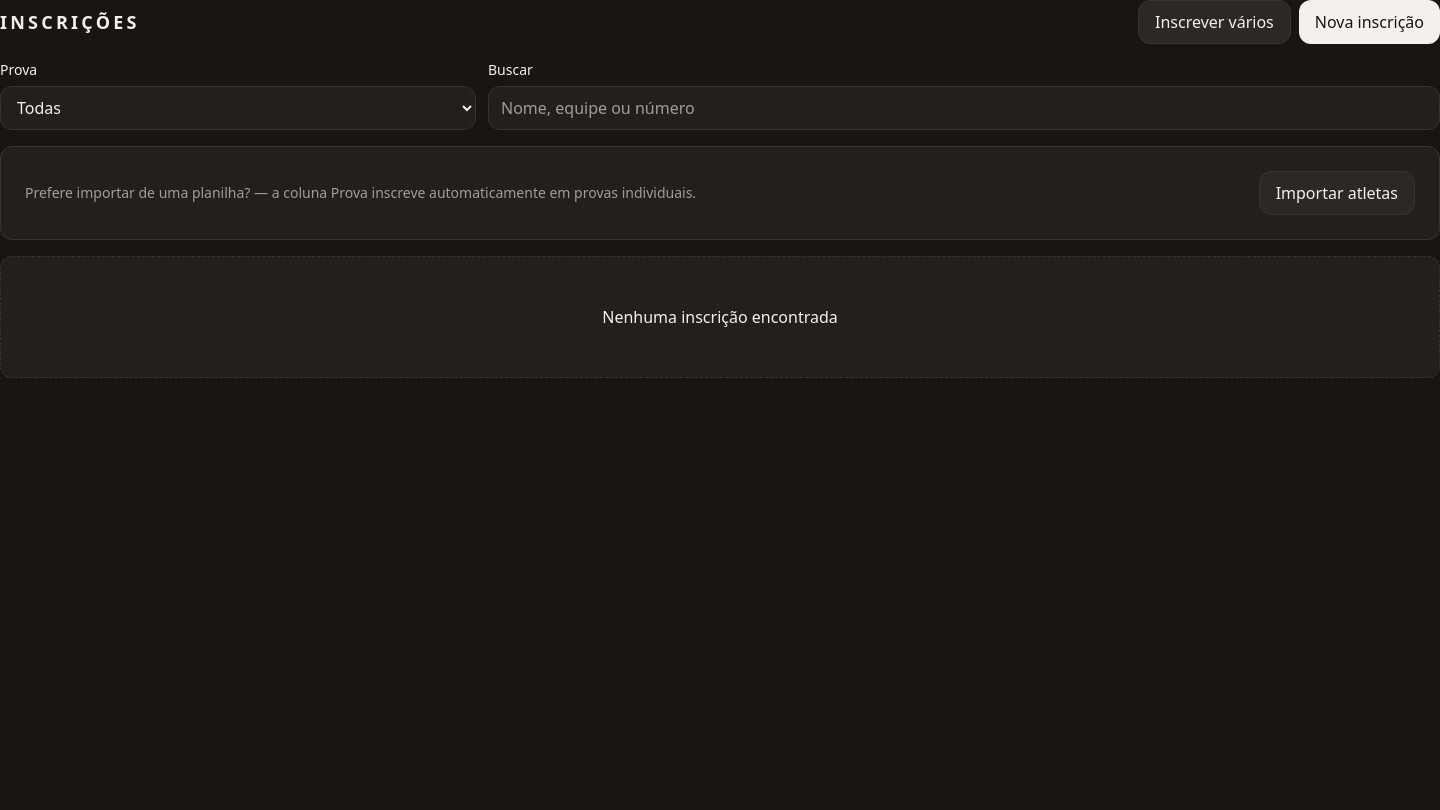
creating a team entry › surfaces the server error in a banner instead of closing the modal
The image size is (1440, 810).
Step 1. Click the button with test id "new-entry" → (1369, 22), box [1299, 0, 1439, 44]
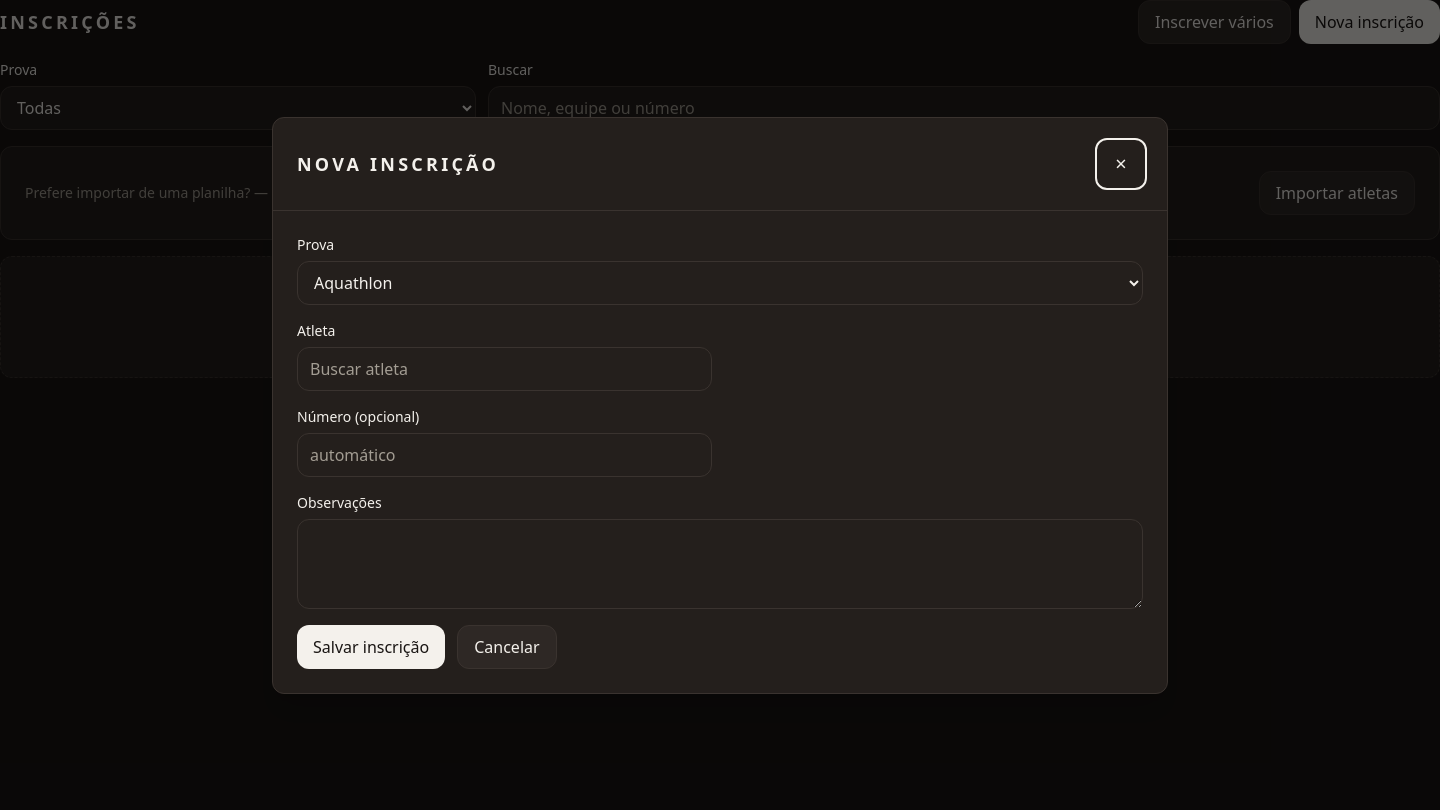
Step 2. Type "Ana" into the dropdown with test id "entry-member-0" → (504, 368), box [297, 346, 712, 390]
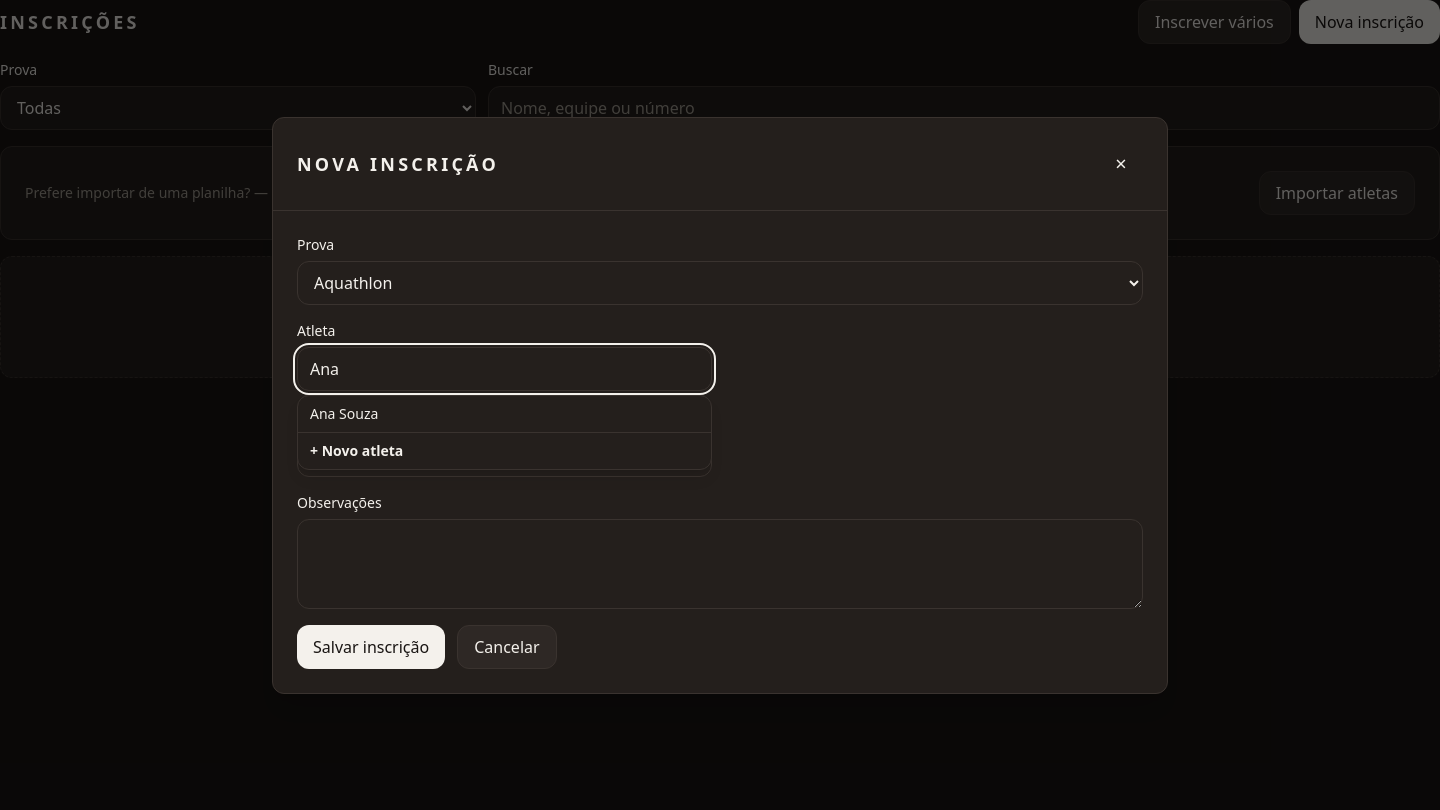
Step 3. Click the option with test id "entry-member-0-option-a1" → (344, 413), box [298, 396, 711, 432]
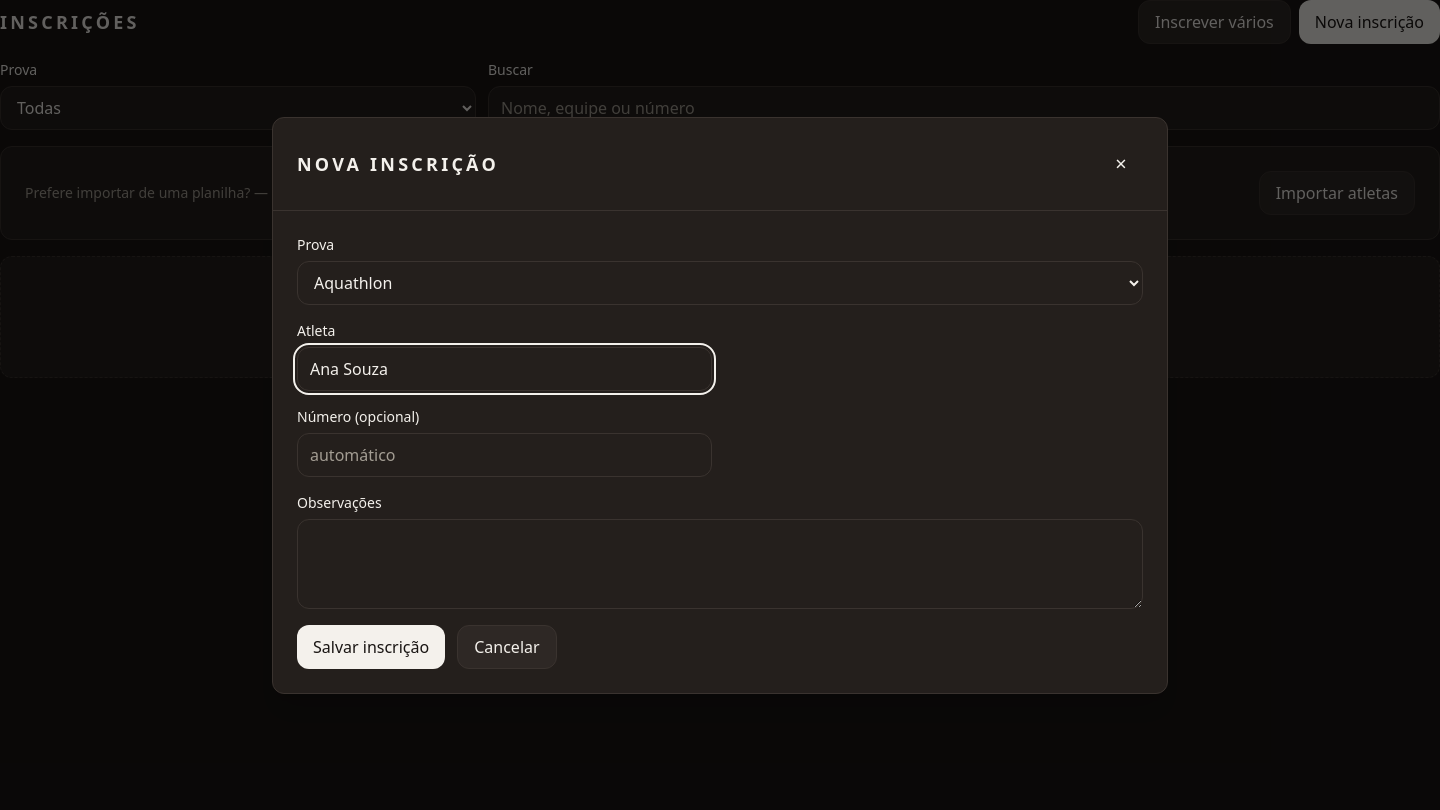
Step 4. Click the button with test id "entry-save" → (371, 646), box [297, 624, 445, 668]
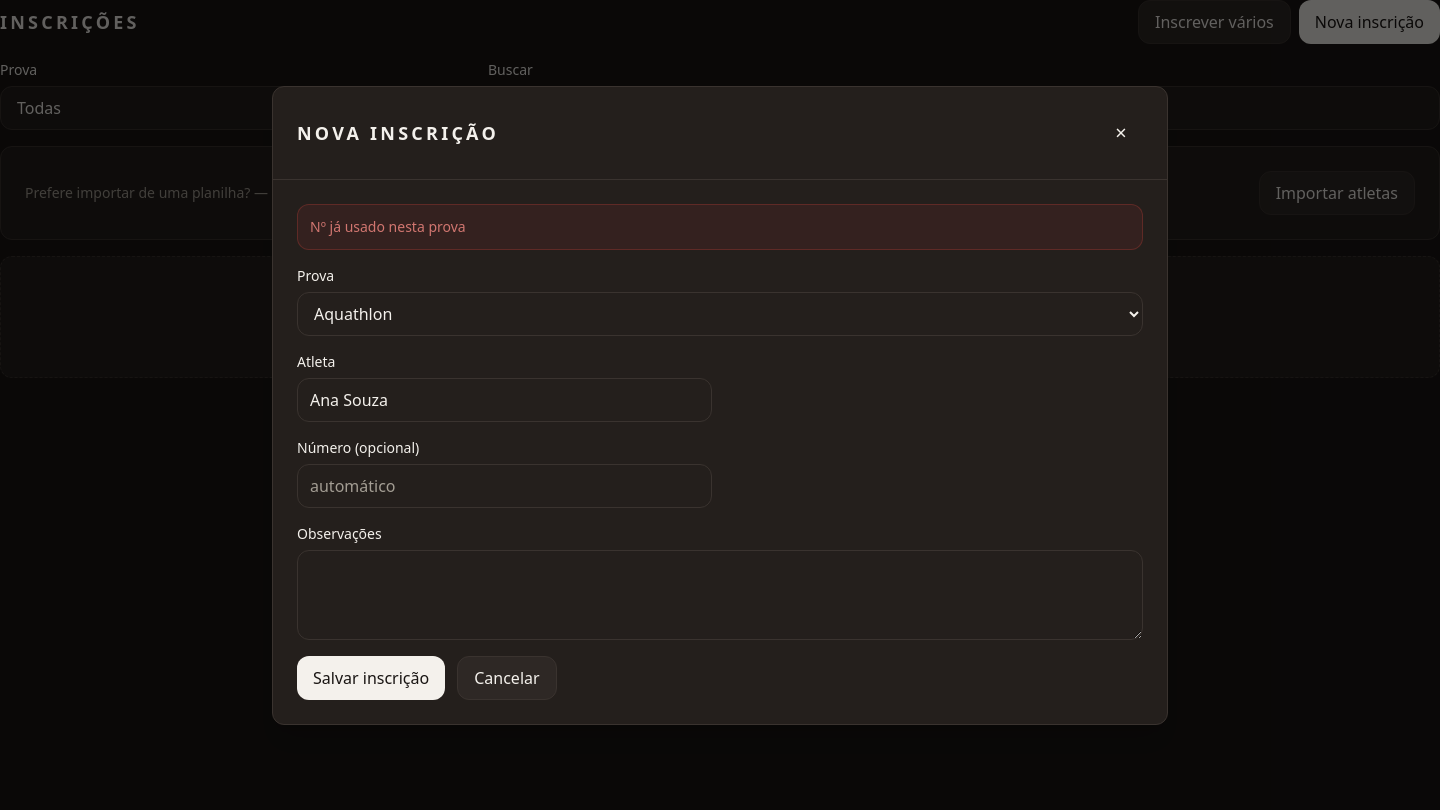
Expected: the button with test id "entry-save" is shown, [297, 656, 445, 700]
Expected: the message reads "Nº já usado nesta prova", [310, 216, 466, 236]
